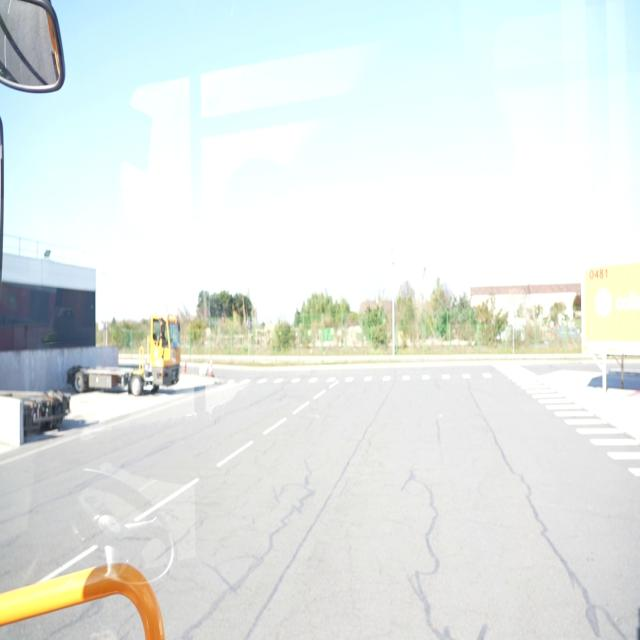Code: (588, 261, 617, 289)
